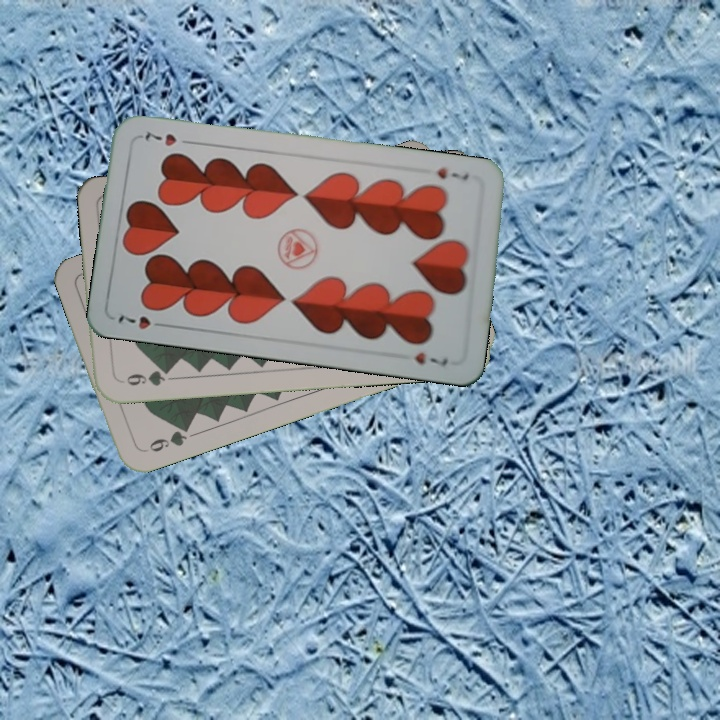G9: (138, 421, 193, 455), (116, 365, 174, 389)
H7: (114, 310, 170, 332), (433, 163, 471, 183)
